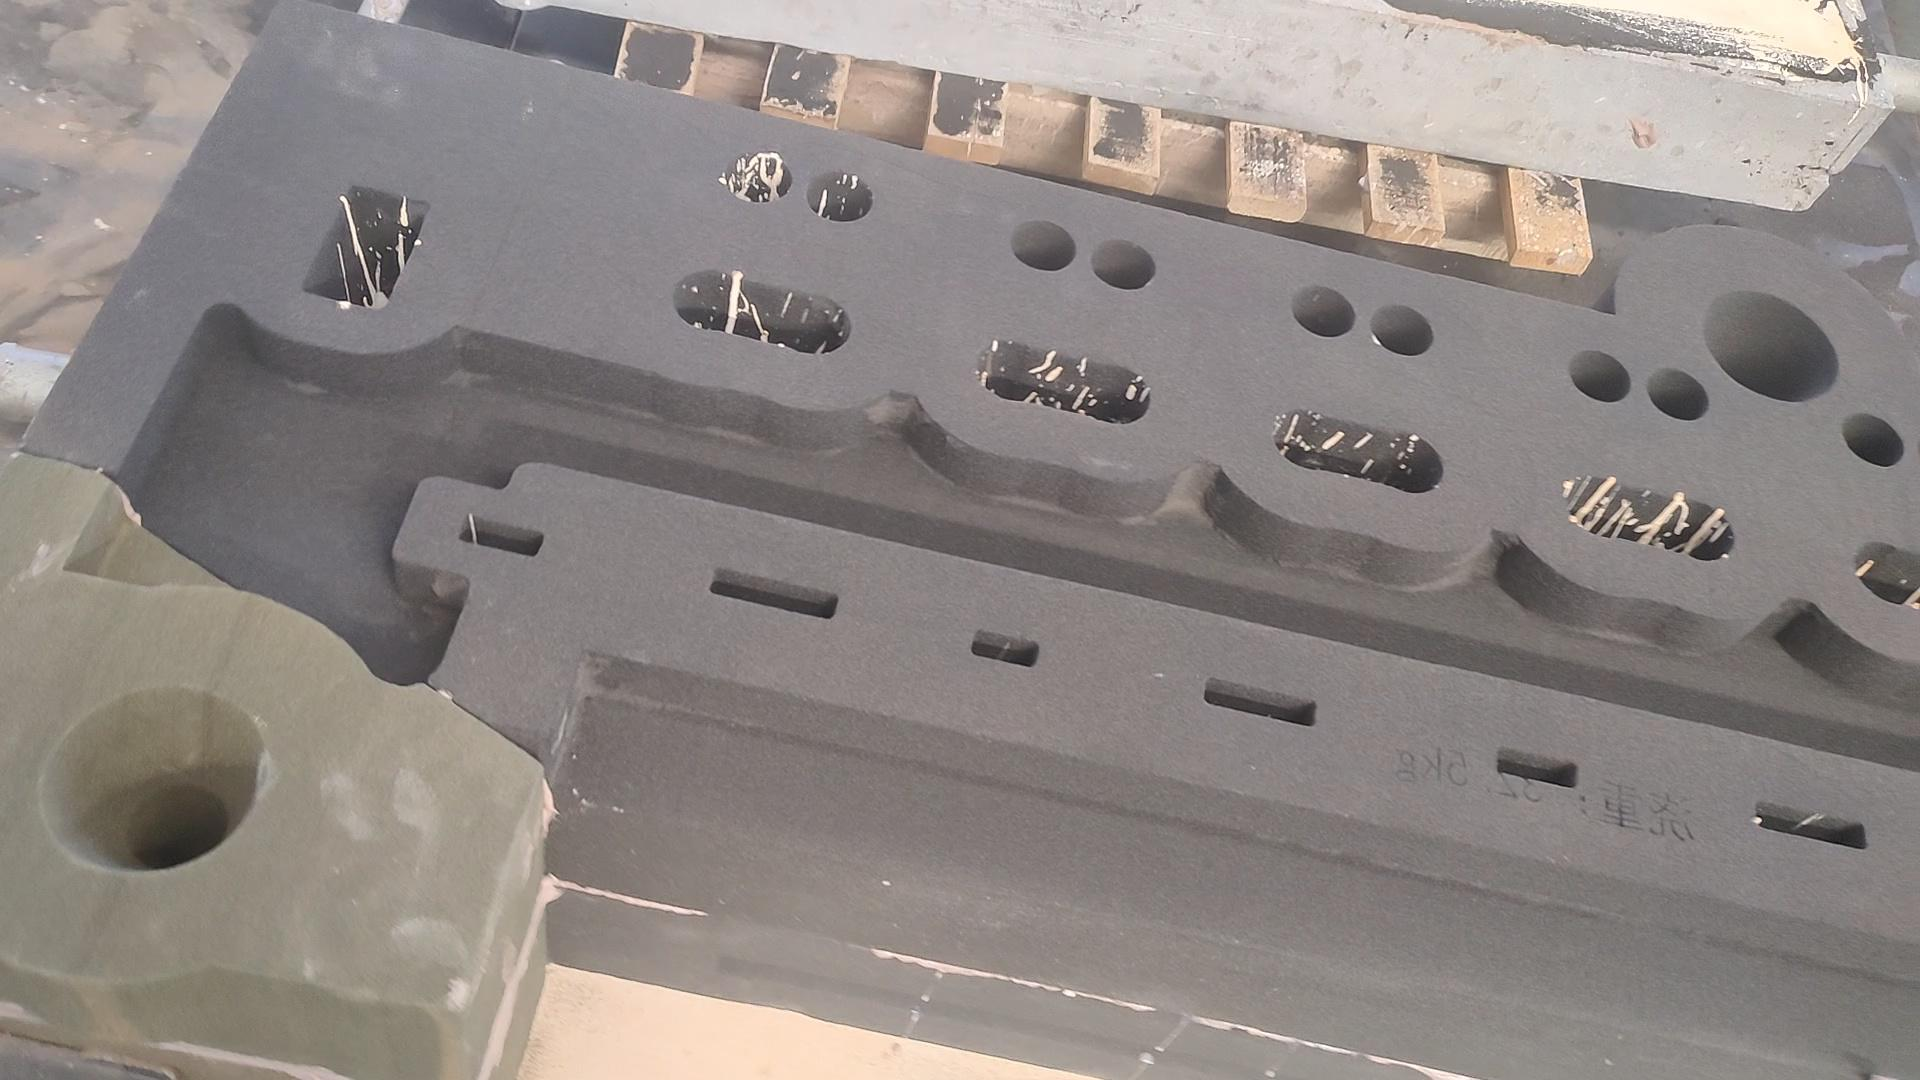pouring hole: (34, 682, 266, 874), (1702, 290, 1838, 404)
